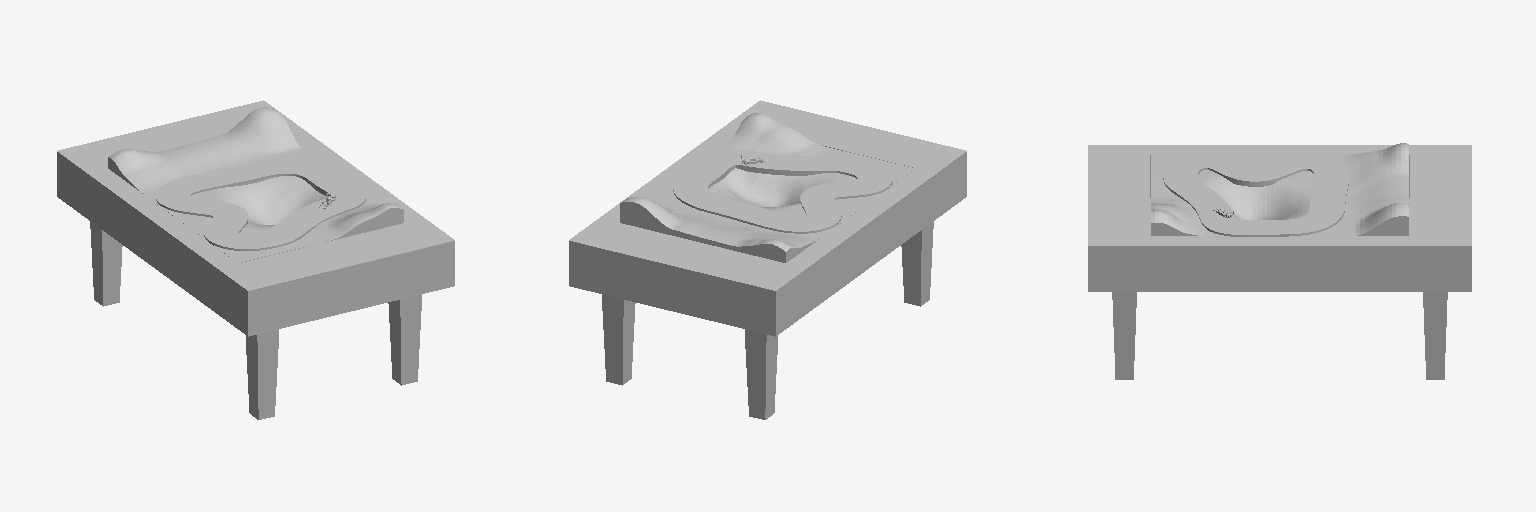
The model's file is NewestTisch36.obj.
3 renders of one model, left to right at view 1: azimuth 30°, elevation 25°; view 2: azimuth 150°, elevation 25°; view 3: azimuth 270°, elevation 25°, orthographic.
Visible parts, largest first — view 1: Tischplatte_wood_table_001, Landschaft_aerial_grass_rock, off, Bein1_wood_table_001, Bein4_wood_table_001.003, Bein3_wood_table_001.002; view 2: Tischplatte_wood_table_001, Landschaft_aerial_grass_rock, off, Bein2_wood_table_001.001, Bein3_wood_table_001.002, Bein4_wood_table_001.003; view 3: Tischplatte_wood_table_001, Landschaft_aerial_grass_rock, off, Bein1_wood_table_001, Bein2_wood_table_001.001.
Boxes of the visible parts, <box> form: Tischplatte_wood_table_001: <box>57,100,454,336</box>; Landschaft_aerial_grass_rock: <box>108,107,403,262</box>; off: <box>156,159,365,250</box>; Bein1_wood_table_001: <box>388,294,421,385</box>; Bein4_wood_table_001.003: <box>246,329,278,419</box>; Bein3_wood_table_001.002: <box>90,221,122,306</box>; Tischplatte_wood_table_001: <box>569,100,966,336</box>; Landschaft_aerial_grass_rock: <box>620,113,915,262</box>; off: <box>673,150,892,233</box>; Bein2_wood_table_001.001: <box>602,294,635,385</box>; Bein3_wood_table_001.002: <box>745,329,777,419</box>; Bein4_wood_table_001.003: <box>901,221,933,306</box>; Tischplatte_wood_table_001: <box>1088,145,1471,291</box>; Landschaft_aerial_grass_rock: <box>1151,143,1408,235</box>; off: <box>1163,153,1348,236</box>; Bein1_wood_table_001: <box>1112,292,1136,379</box>; Bein2_wood_table_001.001: <box>1423,292,1447,379</box>.
Size of the model in its own units: 5 by 3.91 by 8.